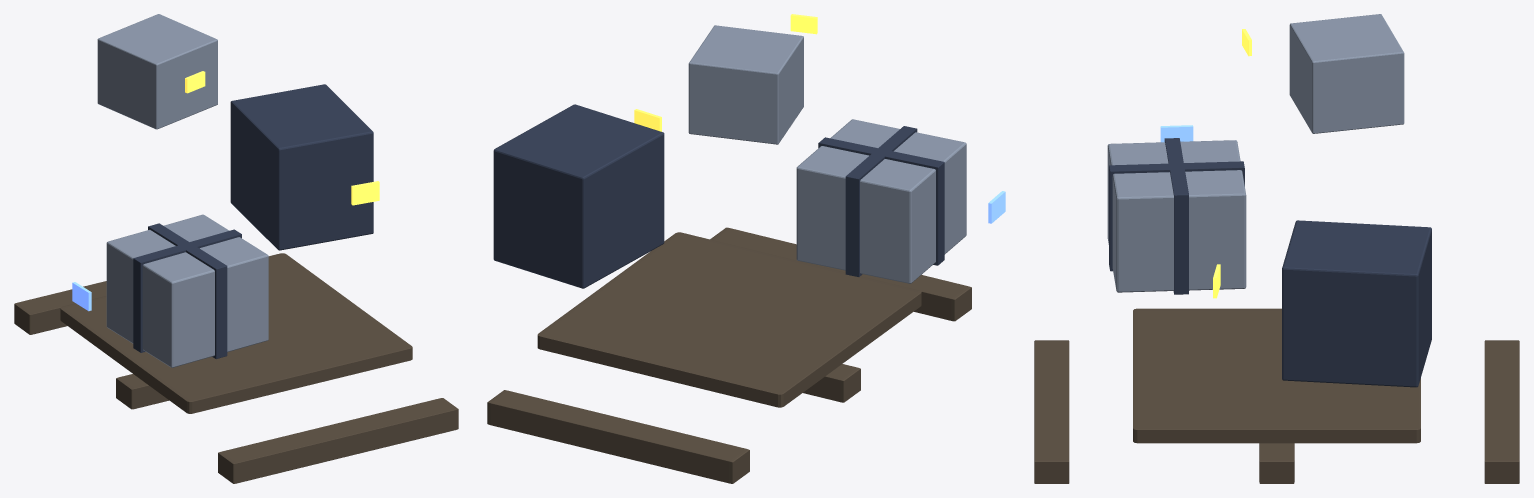
The model's file is supply-props.glb.
3 renders of one model, left to right at view 1: azimuth 30°, elevation 25°; view 2: azimuth 150°, elevation 25°; view 3: azimuth 270°, elevation 25°, orthographic. The views are drawn at different scales.
Visible parts, largest first — view 1: PalletDeck, CrateB, CrateA, CrateC, PalletSkid0, PalletSkid2, BandA2, BandA1, PalletSkid1, TagAmber; view 2: PalletDeck, CrateB, CrateA, CrateC, PalletSkid2, PalletSkid0, BandA2, BandA1, PalletSkid1; view 3: PalletDeck, CrateB, CrateA, CrateC, PalletSkid0, PalletSkid2, BandA1, BandA2, PalletSkid1, TagBlue.
Part boxes in pixels (x1,y1,x2,y2): PalletDeck: (60, 253, 412, 413); CrateB: (230, 84, 373, 250); CrateA: (106, 214, 268, 367); CrateC: (97, 14, 217, 129); PalletSkid0: (218, 398, 458, 483); PalletSkid2: (14, 281, 106, 334); BandA2: (148, 223, 227, 358); BandA1: (133, 229, 241, 352); PalletSkid1: (116, 374, 169, 409); TagAmber: (351, 181, 379, 205); PalletDeck: (537, 232, 921, 407); CrateB: (493, 104, 664, 288); CrateA: (796, 119, 966, 283); CrateC: (688, 25, 803, 144); PalletSkid2: (487, 390, 749, 483); PalletSkid0: (710, 227, 971, 321); BandA2: (845, 126, 917, 276); BandA1: (818, 137, 944, 265); PalletSkid1: (803, 364, 860, 402); PalletDeck: (1133, 308, 1420, 443); CrateB: (1282, 220, 1431, 387); CrateA: (1107, 140, 1246, 292); CrateC: (1289, 14, 1404, 133); PalletSkid0: (1034, 340, 1069, 483); PalletSkid2: (1484, 340, 1519, 483); BandA1: (1164, 138, 1188, 294); BandA2: (1109, 161, 1244, 271); PalletSkid1: (1259, 443, 1294, 483); TagBlue: (1160, 125, 1193, 142).
Bounding box in the file's own units: 0.9064 × 0.795 × 0.97.
